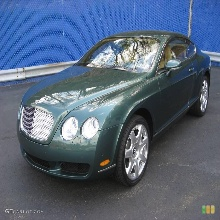no damage: (16, 30, 213, 189)
